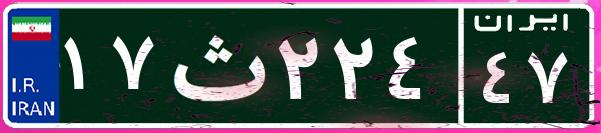1: (57, 26, 110, 107)
2: (273, 28, 330, 110), (330, 28, 385, 110)
4: (385, 28, 445, 110), (475, 38, 525, 113)
7: (110, 28, 158, 105), (525, 38, 570, 115)
ث: (158, 15, 273, 115)
